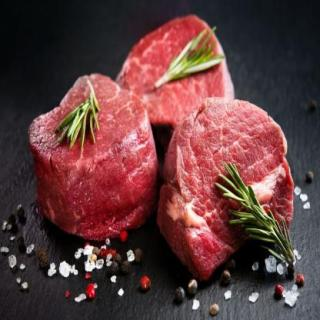Daging Sapi: (163, 100, 296, 277), (33, 77, 159, 241), (123, 16, 231, 129)
